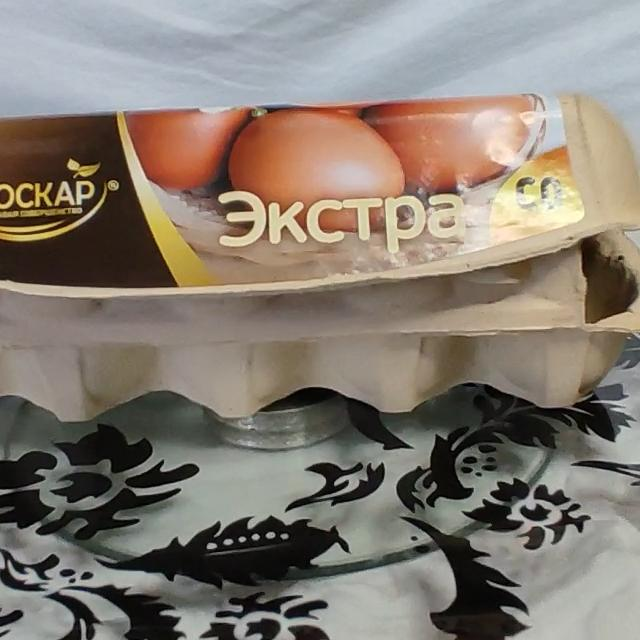egg: (0, 73, 628, 429)
